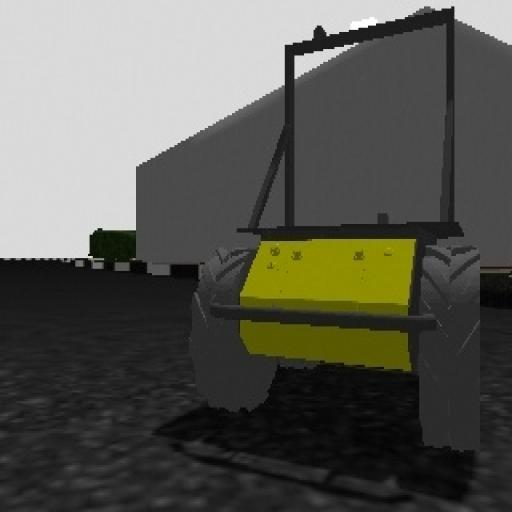huskya200: (182, 6, 490, 498)
